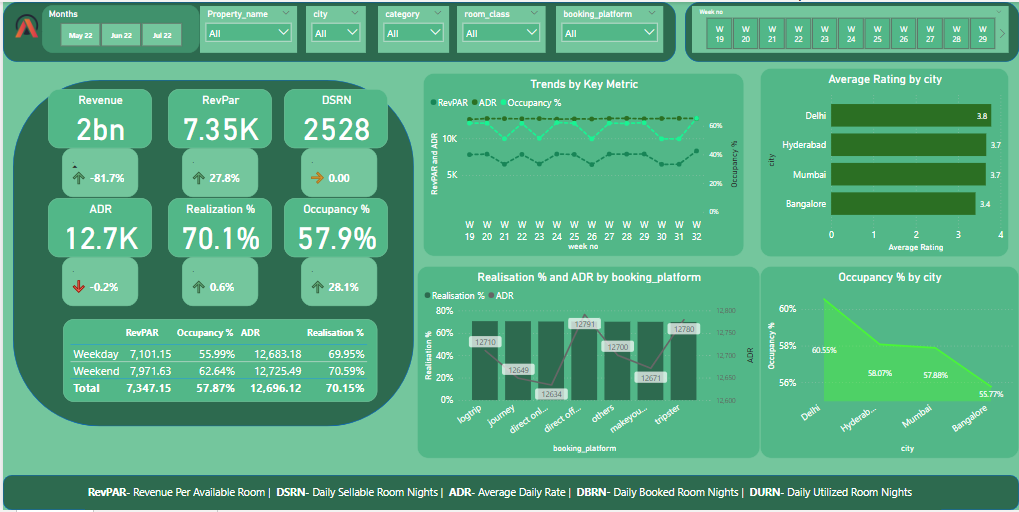

Layout of this report page (visuals, bound fields, positions):
{"tool":"powerbi","page":{"name":"Page 1","canvas":[1800,900],"ordinal":0},"visuals":[{"type":"shape","box":[17.4,137.4,710.3,613.5],"z":0},{"type":"shape","box":[1207.7,0,592.3,106.5],"z":1000},{"type":"shape","box":[0,0,1192.3,106.5],"z":2000},{"type":"slicer","title":"Months","fields":{"Values":["dim_date.mmm yy -"]},"box":[69.7,5.8,278.7,85.2],"z":3000},{"type":"slicer","fields":{"Values":["dim_hotels.property_name"]},"box":[348.4,7.7,172.3,83.2],"z":4000},{"type":"slicer","fields":{"Values":["dim_hotels.city"]},"box":[536.1,7.7,106.5,83.2],"z":5000},{"type":"slicer","fields":{"Values":["dim_hotels.category"]},"box":[663.9,7.7,125.8,83.2],"z":6000},{"type":"slicer","fields":{"Values":["dim_rooms.room_class"]},"box":[805.2,7.7,156.8,83.2],"z":7000},{"type":"slicer","fields":{"Values":["fact_bookings.booking_platform"]},"box":[979.4,7.7,189.7,83.2],"z":8000},{"type":"image","box":[0,7.7,79.4,69.7],"z":9000},{"type":"slicer","fields":{"Values":["dim_date.week no"]},"box":[1221.3,7.7,561.3,83.2],"z":10000},{"type":"card","title":"Revenue","fields":{"Values":["key_measures.Revenue"]},"box":[79.4,154.8,183.9,104.5],"z":11000},{"type":"card","title":"RevPar","fields":{"Values":["key_measures.RevPAR"]},"box":[292.3,154.8,183.9,104.5],"z":12000},{"type":"card","title":"DSRN","fields":{"Values":["key_measures.DSRN"]},"box":[497.4,154.8,183.9,104.5],"z":13000},{"type":"card","title":"ADR","fields":{"Values":["key_measures.ADR"]},"box":[79.4,346.5,183.9,104.5],"z":14000},{"type":"card","title":"Realization %","fields":{"Values":["key_measures.Realisation %"]},"box":[292.3,346.5,183.9,104.5],"z":15000},{"type":"card","title":"Occupancy %","fields":{"Values":["key_measures.Occupancy %"]},"box":[497.4,346.5,183.9,104.5],"z":16000},{"type":"tableEx","fields":{"Values":["key_measures.Revenue WoW change %"]},"box":[104.5,259.4,135.5,87.1],"z":17000},{"type":"tableEx","fields":{"Values":["key_measures.Revpar WoW change %"]},"box":[317.4,259.4,135.5,87.1],"z":18000},{"type":"tableEx","fields":{"Values":["key_measures.DSRN WoW change %"]},"box":[528.4,259.4,135.5,87.1],"z":19000},{"type":"tableEx","fields":{"Values":["key_measures.ADR WoW change %"]},"box":[104.5,451,135.5,87.1],"z":20000},{"type":"tableEx","fields":{"Values":["key_measures.Realisation WoW change %"]},"box":[317.4,451,135.5,87.1],"z":21000},{"type":"tableEx","fields":{"Values":["key_measures.Occupancy WoW change %"]},"box":[528.4,451,135.5,87.1],"z":22000},{"type":"donutChart","fields":{"Y":["key_measures.Revenue"],"Category":["dim_hotels.category"]},"box":[1298.7,137.4,483.9,331],"z":23000},{"type":"donutChart","fields":{"Category":["dim_rooms.room_class"],"Y":["key_measures.Occupancy %"]},"box":[744.1,140,483.7,329.5],"z":24000},{"type":"tableEx","fields":{"Values":["dim_date.day_type","key_measures.RevPAR","key_measures.Occupancy %","key_measures.ADR","key_measures.Realisation %"]},"box":[106.5,561.3,557.4,147.1],"z":25000},{"type":"tableEx","fields":{"Values":["dim_hotels.property_id","dim_hotels.property_name","dim_hotels.city","key_measures.Revenue","key_measures.RevPAR","key_measures.Occupancy %","key_measures.ADR","key_measures.DSRN","key_measures.DBRN","key_measures.DURN","key_measures.Realisation %","key_measures.Cancellation %"]},"box":[743.2,495.5,1056.8,329],"z":26000},{"type":"shape","box":[0,838,1800,62],"z":27000},{"type":"textbox","box":[145.2,849.7,1395.5,36.8],"z":28000}]}

Visuals, with their boxes in screenshot pixels (x1, y1, x2, y2), scaled from the page's 1800x900 canvas onto the 1019x512 screenshot:
shape: [left=10, top=78, right=412, bottom=427]
shape: [left=684, top=0, right=1018, bottom=61]
shape: [left=0, top=0, right=675, bottom=61]
"Months" slicer: [left=39, top=3, right=197, bottom=52]
slicer - dim_hotels.property_name: [left=197, top=4, right=295, bottom=52]
slicer - dim_hotels.city: [left=303, top=4, right=364, bottom=52]
slicer - dim_hotels.category: [left=376, top=4, right=447, bottom=52]
slicer - dim_rooms.room_class: [left=456, top=4, right=545, bottom=52]
slicer - fact_bookings.booking_platform: [left=554, top=4, right=662, bottom=52]
image: [left=0, top=4, right=45, bottom=44]
slicer - dim_date.week no: [left=691, top=4, right=1009, bottom=52]
"Revenue" card: [left=45, top=88, right=149, bottom=148]
"RevPar" card: [left=165, top=88, right=270, bottom=148]
"DSRN" card: [left=282, top=88, right=386, bottom=148]
"ADR" card: [left=45, top=197, right=149, bottom=257]
"Realization %" card: [left=165, top=197, right=270, bottom=257]
"Occupancy %" card: [left=282, top=197, right=386, bottom=257]
tableEx - key_measures.Revenue WoW change %: [left=59, top=148, right=136, bottom=197]
tableEx - key_measures.Revpar WoW change %: [left=180, top=148, right=256, bottom=197]
tableEx - key_measures.DSRN WoW change %: [left=299, top=148, right=376, bottom=197]
tableEx - key_measures.ADR WoW change %: [left=59, top=257, right=136, bottom=306]
tableEx - key_measures.Realisation WoW change %: [left=180, top=257, right=256, bottom=306]
tableEx - key_measures.Occupancy WoW change %: [left=299, top=257, right=376, bottom=306]
donutChart - key_measures.Revenue x dim_hotels.category: [left=735, top=78, right=1009, bottom=266]
donutChart - dim_rooms.room_class x key_measures.Occupancy %: [left=421, top=80, right=695, bottom=267]
tableEx - dim_date.day_type x key_measures.RevPAR: [left=60, top=319, right=376, bottom=403]
tableEx - dim_hotels.property_id x dim_hotels.property_name: [left=421, top=282, right=1018, bottom=469]
shape: [left=0, top=477, right=1018, bottom=511]
textbox: [left=82, top=483, right=872, bottom=504]
